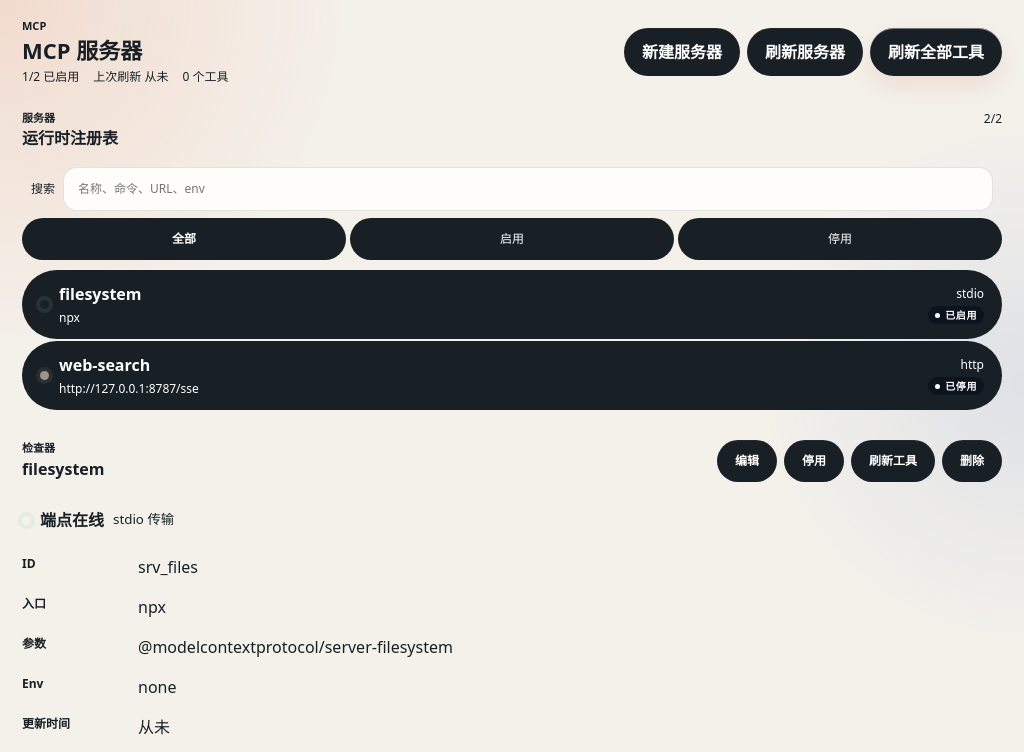
Test: McpWorkspace › filters MCP servers by search text and enabled state
The image size is (1024, 752).
Expected: the element "运行时注册表" is shown, 22,110 -> 1002,422
In the field named "搜索 MCP 服务器": (528, 189) 63,167 -> 993,211, type "web"
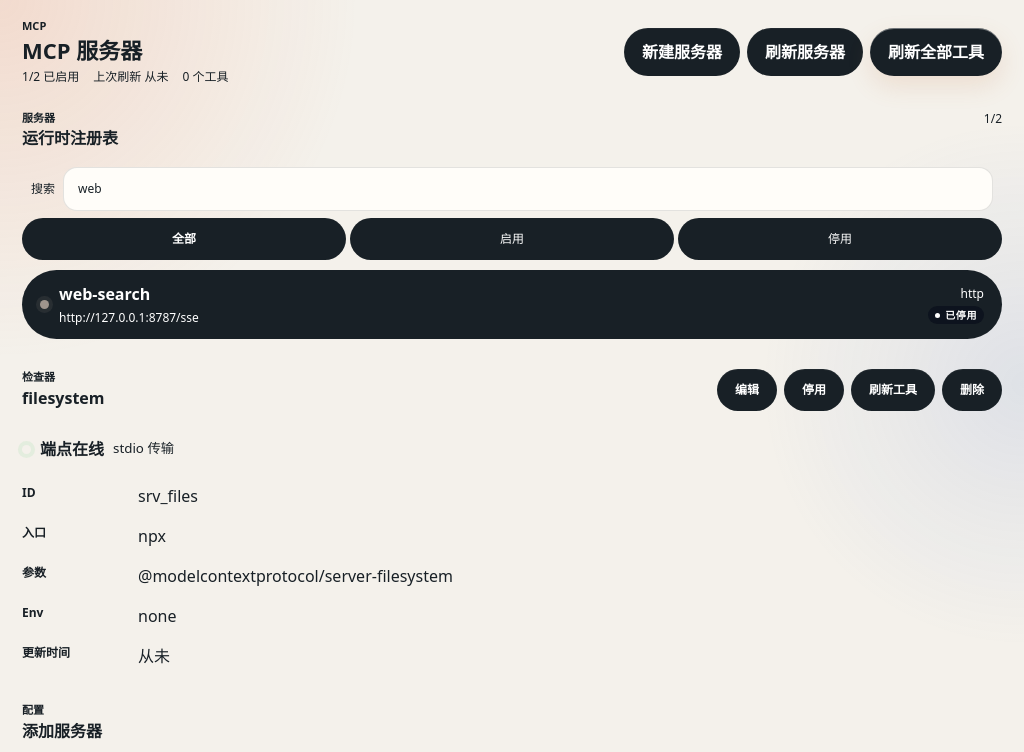
Expected: the text "web-search" is shown, 59,283 -> 150,305
Click the tab "启用": (512, 239) 350,218 -> 674,260
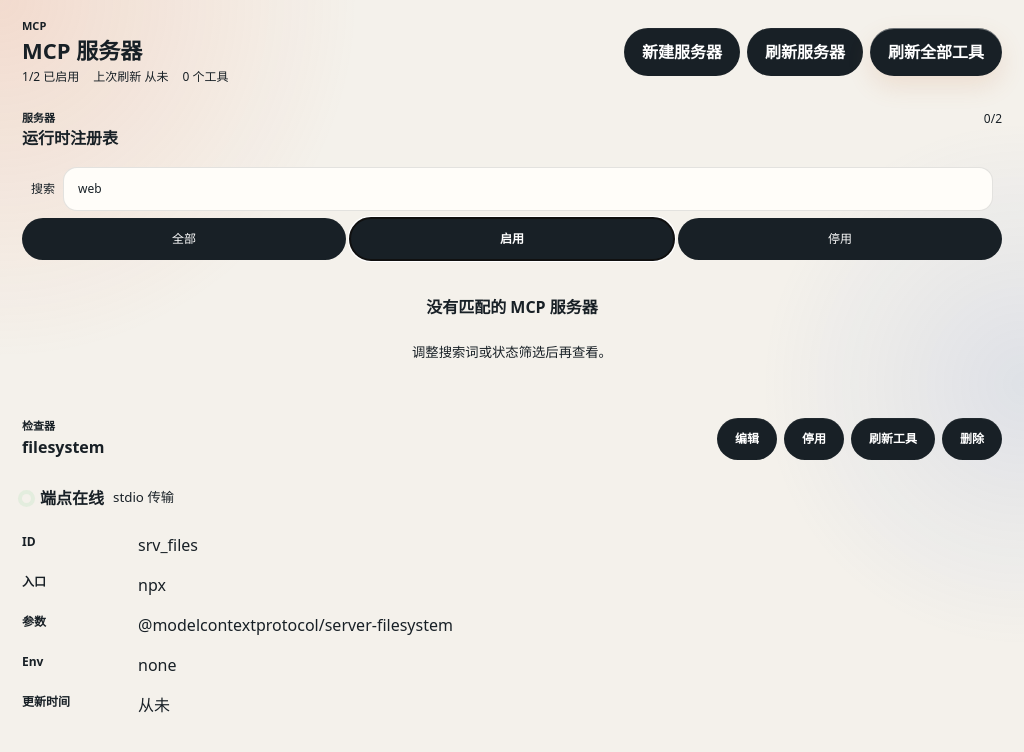
Expected: the button "web-search" is gone
Expected: the text "没有匹配的 MCP 服务器" is shown, 426,295 -> 598,319
